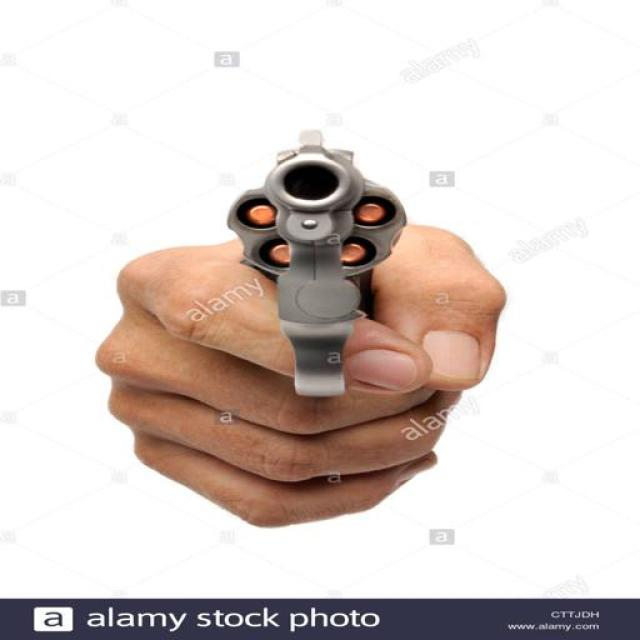pistol: (212, 121, 410, 416)
